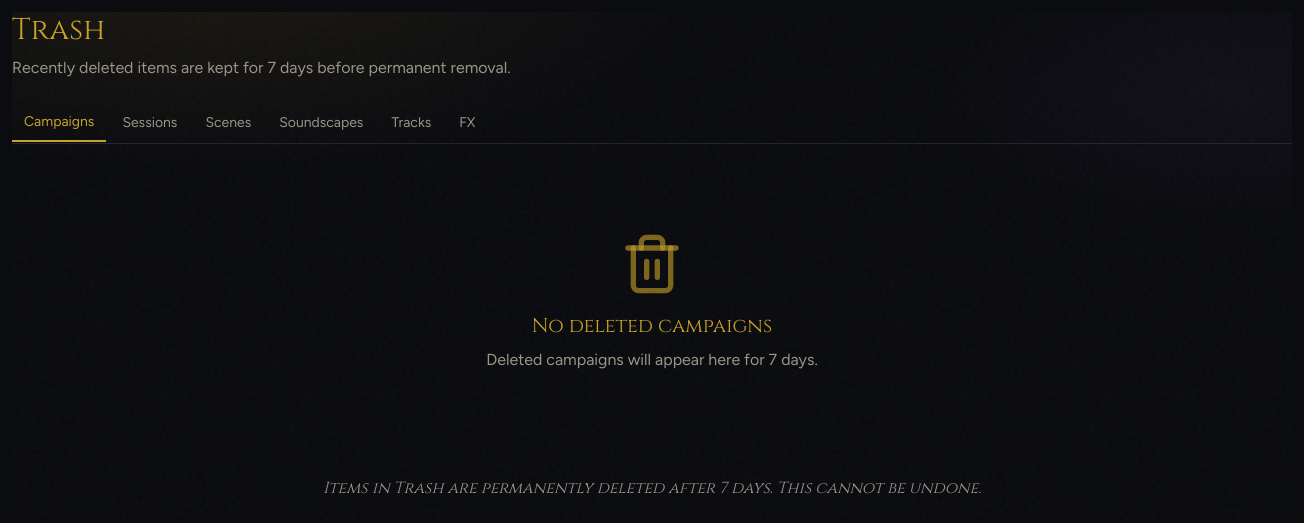
TrashPage › shows select all and selection bar when items exist
Click the tab "FX": (467, 127) [447,112,488,142]
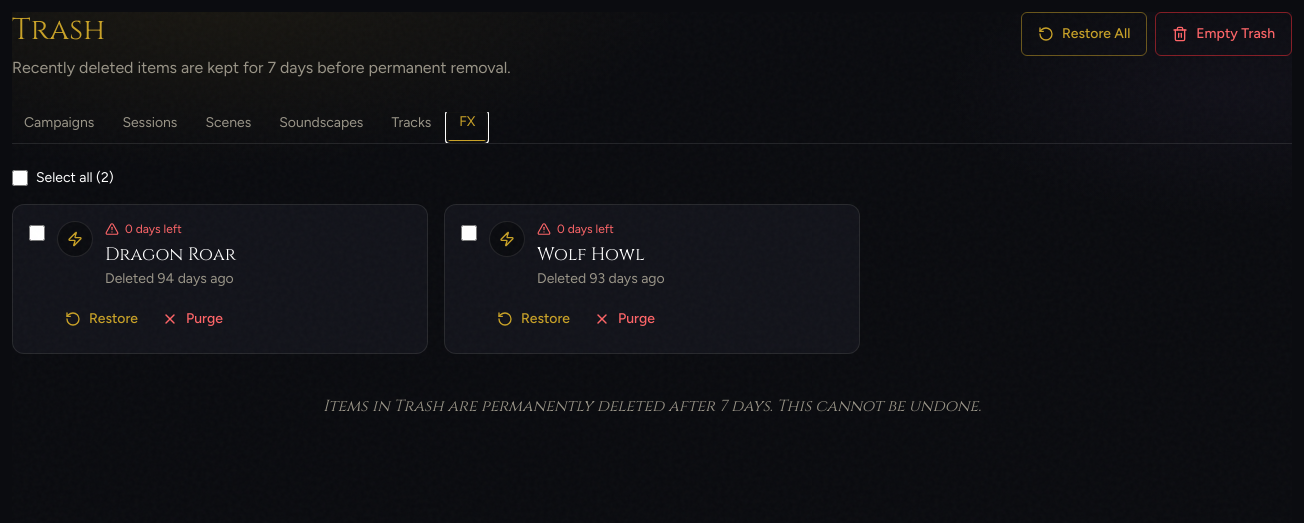
Result: the checkbox labelled "Select all (2)" is shown at [12,170,28,186]
Result: the button "Restore All" is shown at [1021,12,1147,56]
Result: the button "Empty Trash" is shown at [1155,12,1292,56]
Click the checkbox named "Select Dragon Roar": (37, 233) [29,225,45,241]
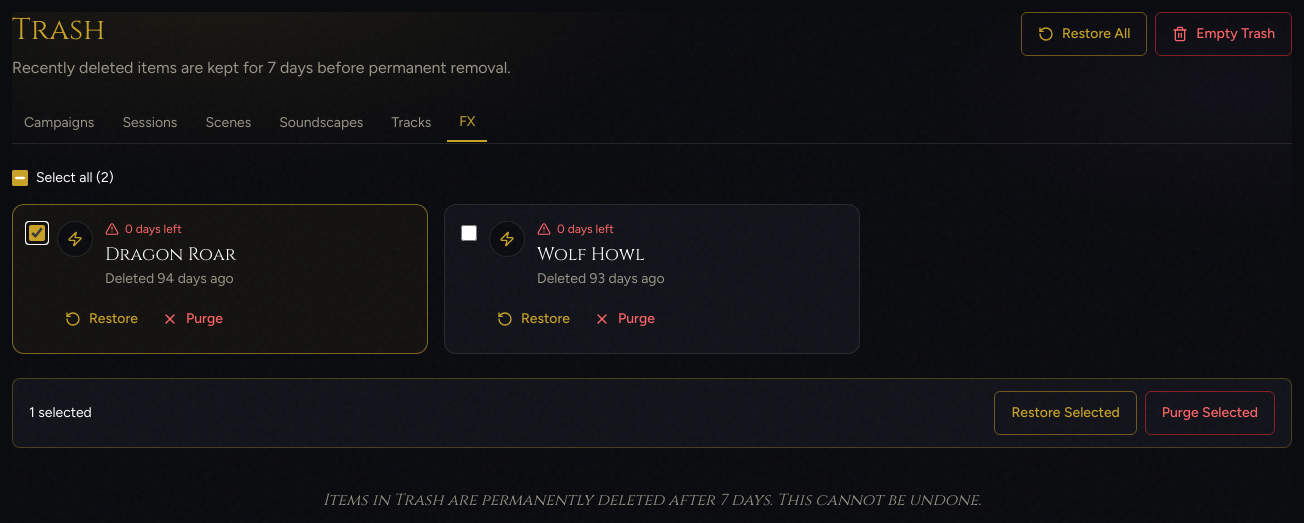
Click the checkbox named "Select Wolf Howl": (469, 233) [461,225,477,241]
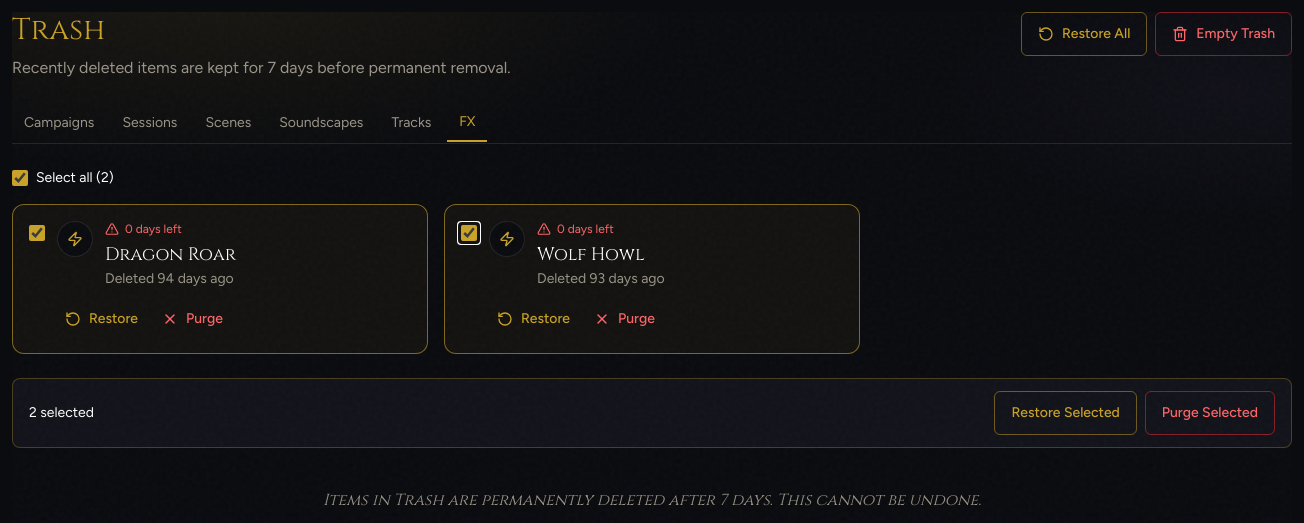
Result: the button "Restore Selected" is shown at [994,391,1137,435]
Result: the button "Purge Selected" is shown at [1145,391,1275,435]
Result: the text "2 selected" is shown at [29,403,94,423]
